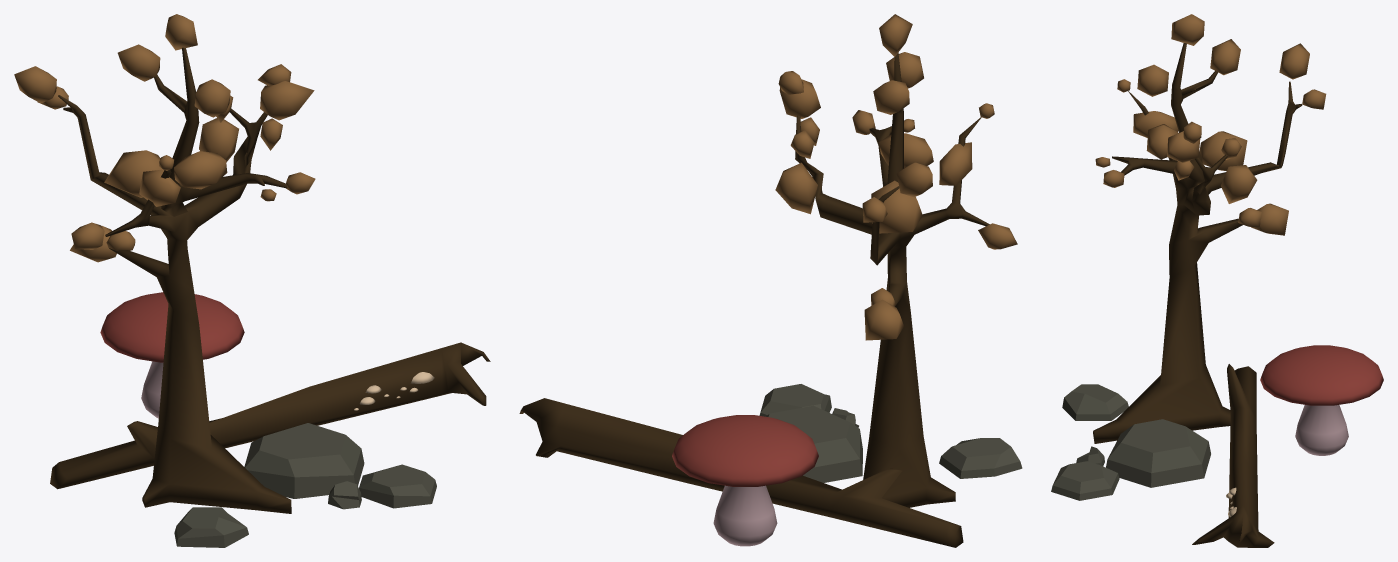
File: set_deadtrees_20210129.fbx
3 views of the same model, side by side, from view 1: azimuth 30°, elevation 25°; view 2: azimuth 150°, elevation 25°; view 3: azimuth 270°, elevation 25° (orthographic). The views are drawn at different scales.
Parts seen in each view (by area): view 1: dead tree.003; view 2: dead tree.003; view 3: dead tree.003.
Boxes of the visible parts, left/top/right/bottom form: dead tree.003: left=14, top=14, right=490, bottom=547; dead tree.003: left=519, top=14, right=1022, bottom=547; dead tree.003: left=1051, top=14, right=1383, bottom=547.
Bounding box in the file's own units: 2.85 × 2.85 × 2.12.
